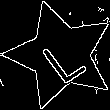L_NW: (32, 26, 89, 85)
